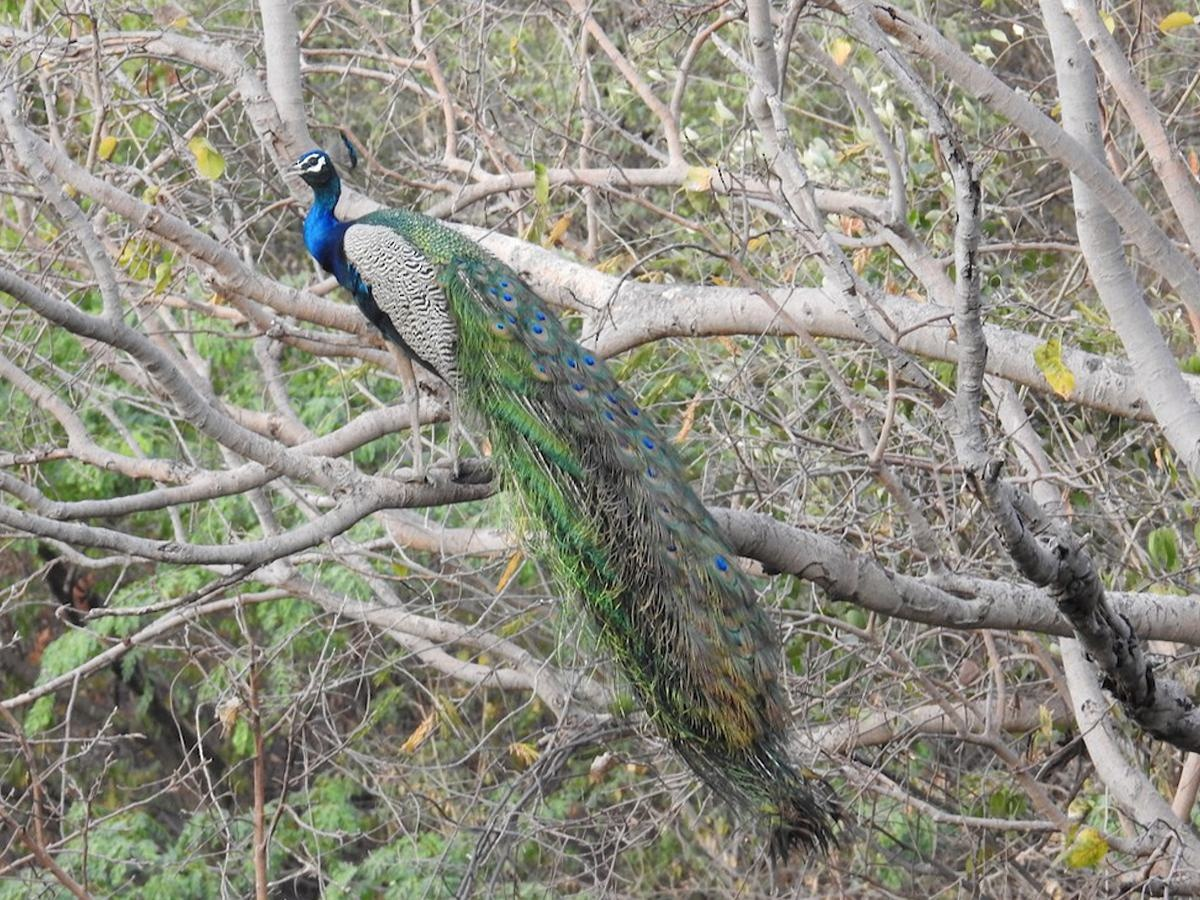peacock: (278, 124, 795, 864)
